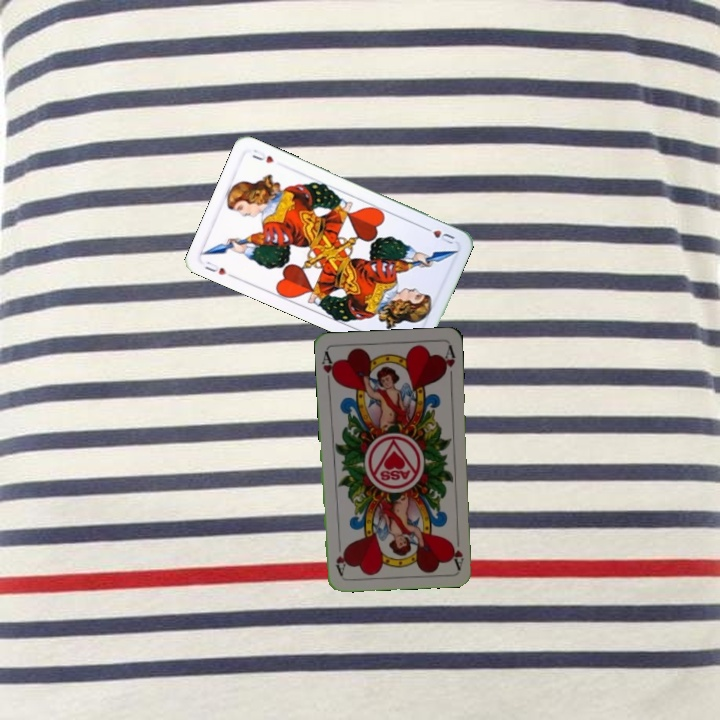HA: (318, 347, 339, 388), (448, 530, 466, 571)
HU: (419, 222, 457, 247), (201, 257, 229, 278)
